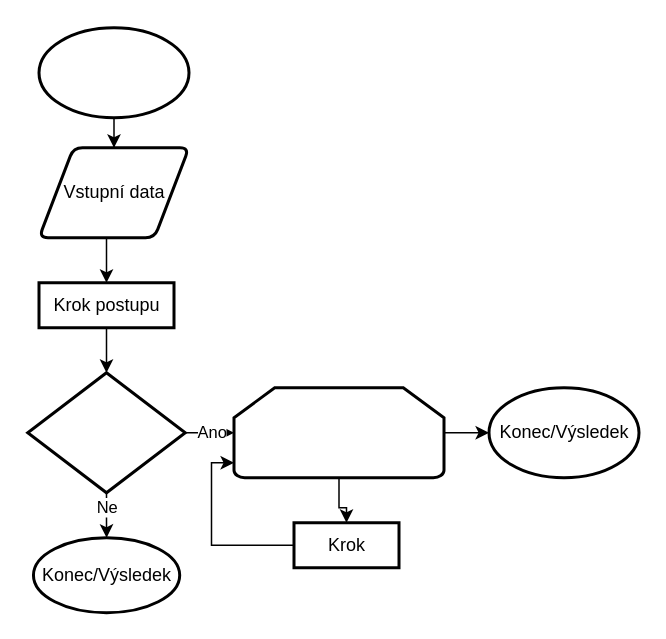
This 666x639 diagram has some shape labels left out. The box of each missing label's shape, as (x1, y1, x2, y2) in pixels:
Opakování/kolikrát/kdy se zastaví: (232, 386, 445, 478)
Start/Název: (37, 26, 190, 118)
Větvení/Otázka: (26, 370, 186, 494)
